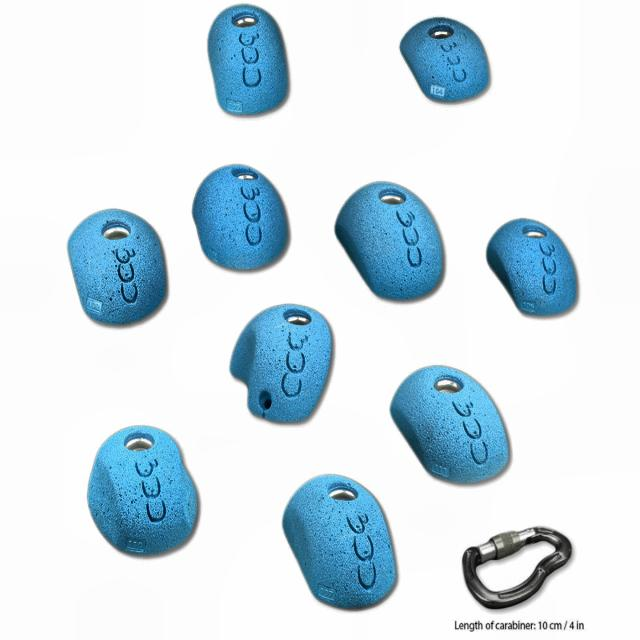Hold: (268, 475, 402, 611), (384, 356, 514, 493), (89, 423, 203, 557), (334, 177, 448, 302), (59, 206, 171, 330), (226, 304, 338, 428), (480, 209, 583, 319), (192, 163, 289, 276), (204, 0, 291, 121), (400, 22, 492, 110)
